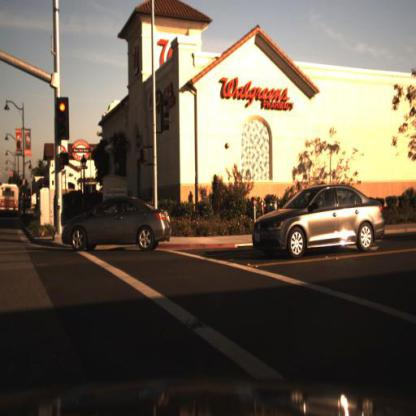car: (249, 181, 393, 252), (60, 194, 170, 256)
trafficLight-Red: (58, 100, 69, 140)
truck: (1, 183, 22, 226)
